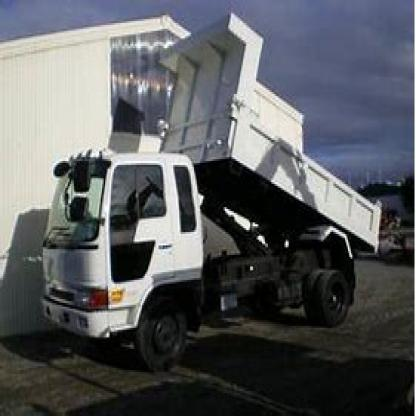dump_truck: (35, 13, 388, 378)
